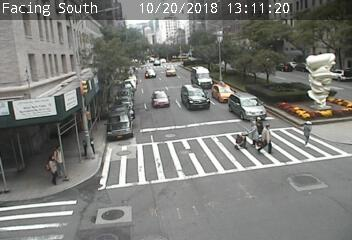car: (233, 95, 265, 119), (191, 65, 214, 87), (179, 87, 205, 106), (213, 83, 230, 99), (152, 90, 168, 107), (143, 70, 157, 80), (164, 67, 174, 77)
